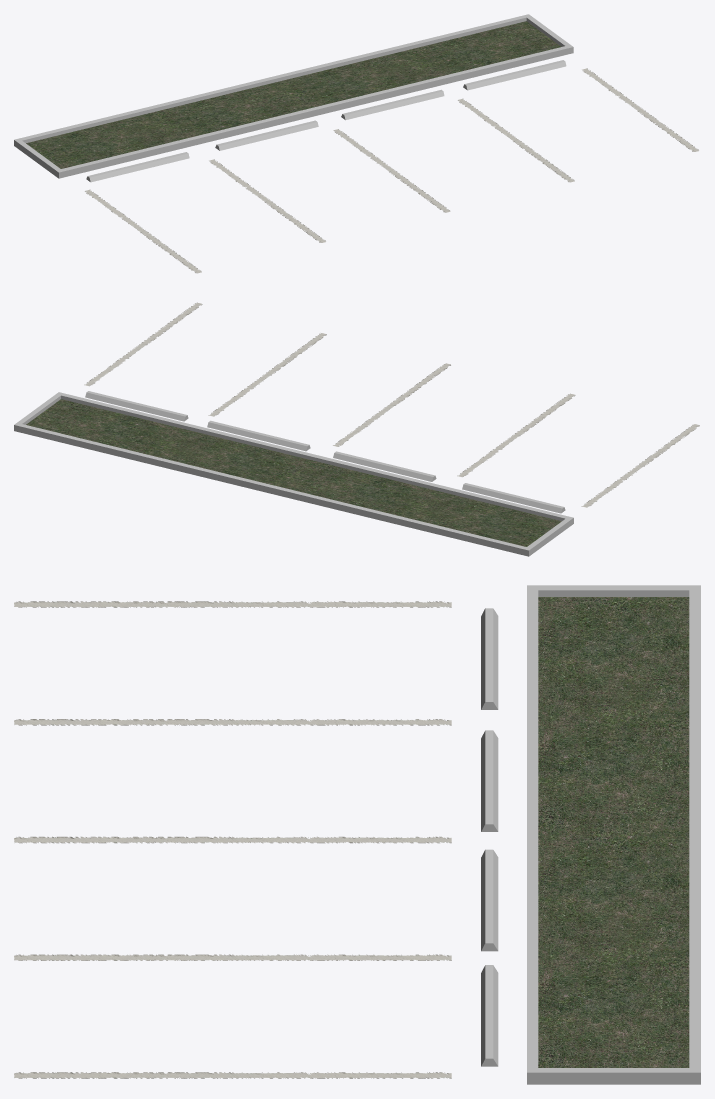
The model's file is Park-11.fbx.
3 views of the same model, one above another, from view 1: azimuth 30°, elevation 25°; view 2: azimuth 150°, elevation 25°; view 3: azimuth 270°, elevation 25° (orthographic). The views are drawn at different scales.
Visible parts, largest first — view 1: Park-11; view 2: Park-11; view 3: Park-11.
Part boxes in pixels (x1,y1,x2,y2): Park-11: (14,14,698,273); Park-11: (14,302,699,556); Park-11: (14,585,700,1084).
Size of what is drawn, in the model's own units: 11.9 by 0.136 by 7.09.
